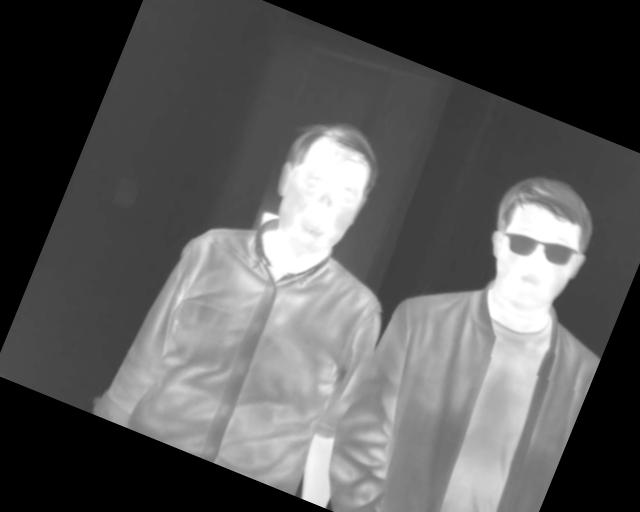face: (465, 162, 610, 327), (254, 106, 393, 268)
